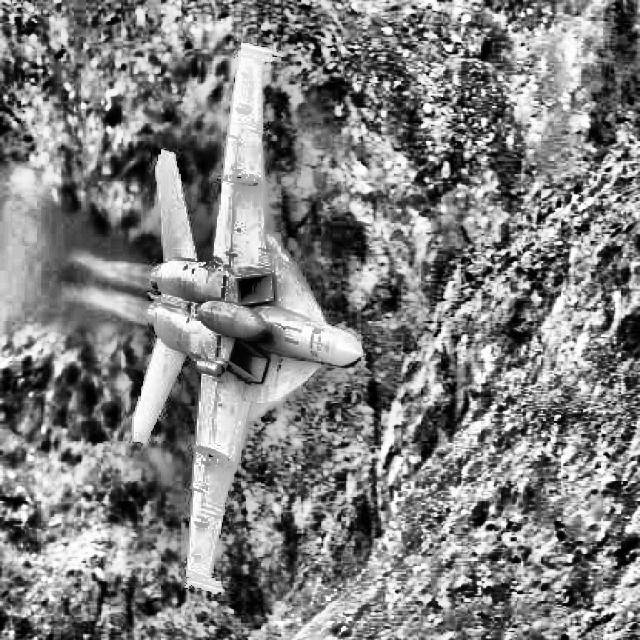F18: (132, 42, 363, 596)
